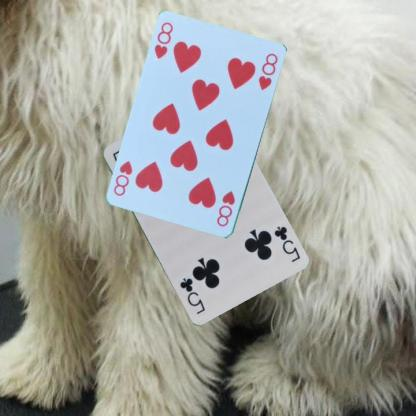5c: (271, 223, 301, 263)
8h: (152, 20, 174, 61), (214, 189, 236, 229)
